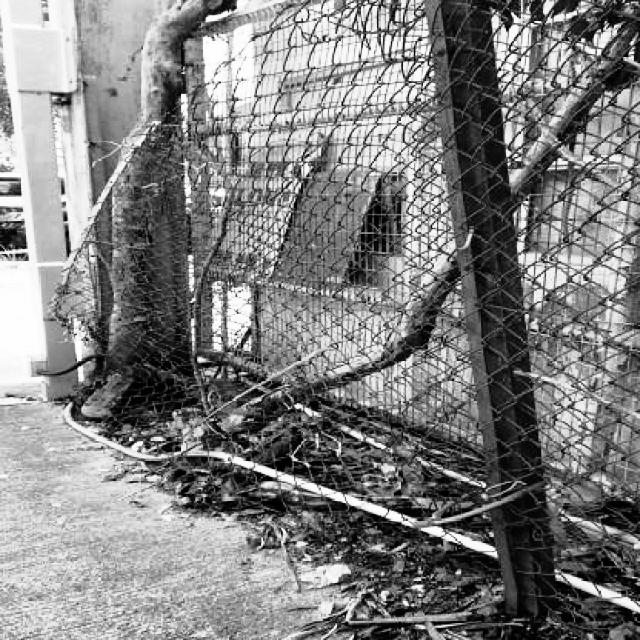anomaly-fence: (0, 0, 313, 476)
